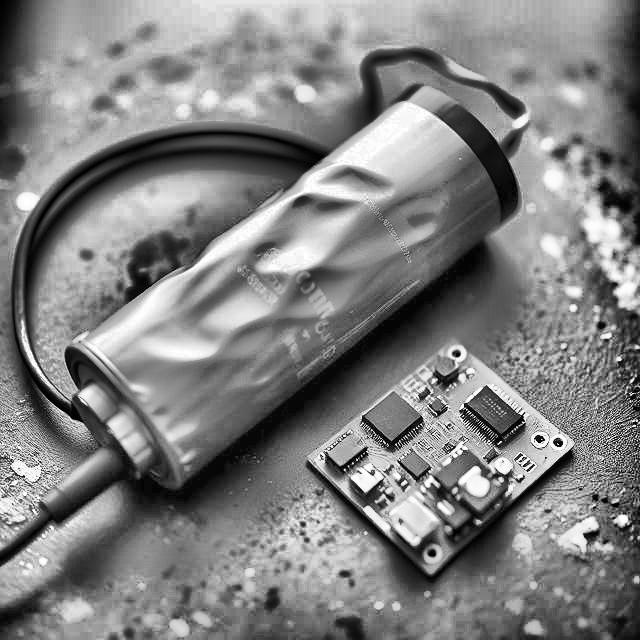Battery: (65, 83, 521, 484)
Cable: (13, 125, 320, 406)
PCB: (305, 336, 579, 577)
